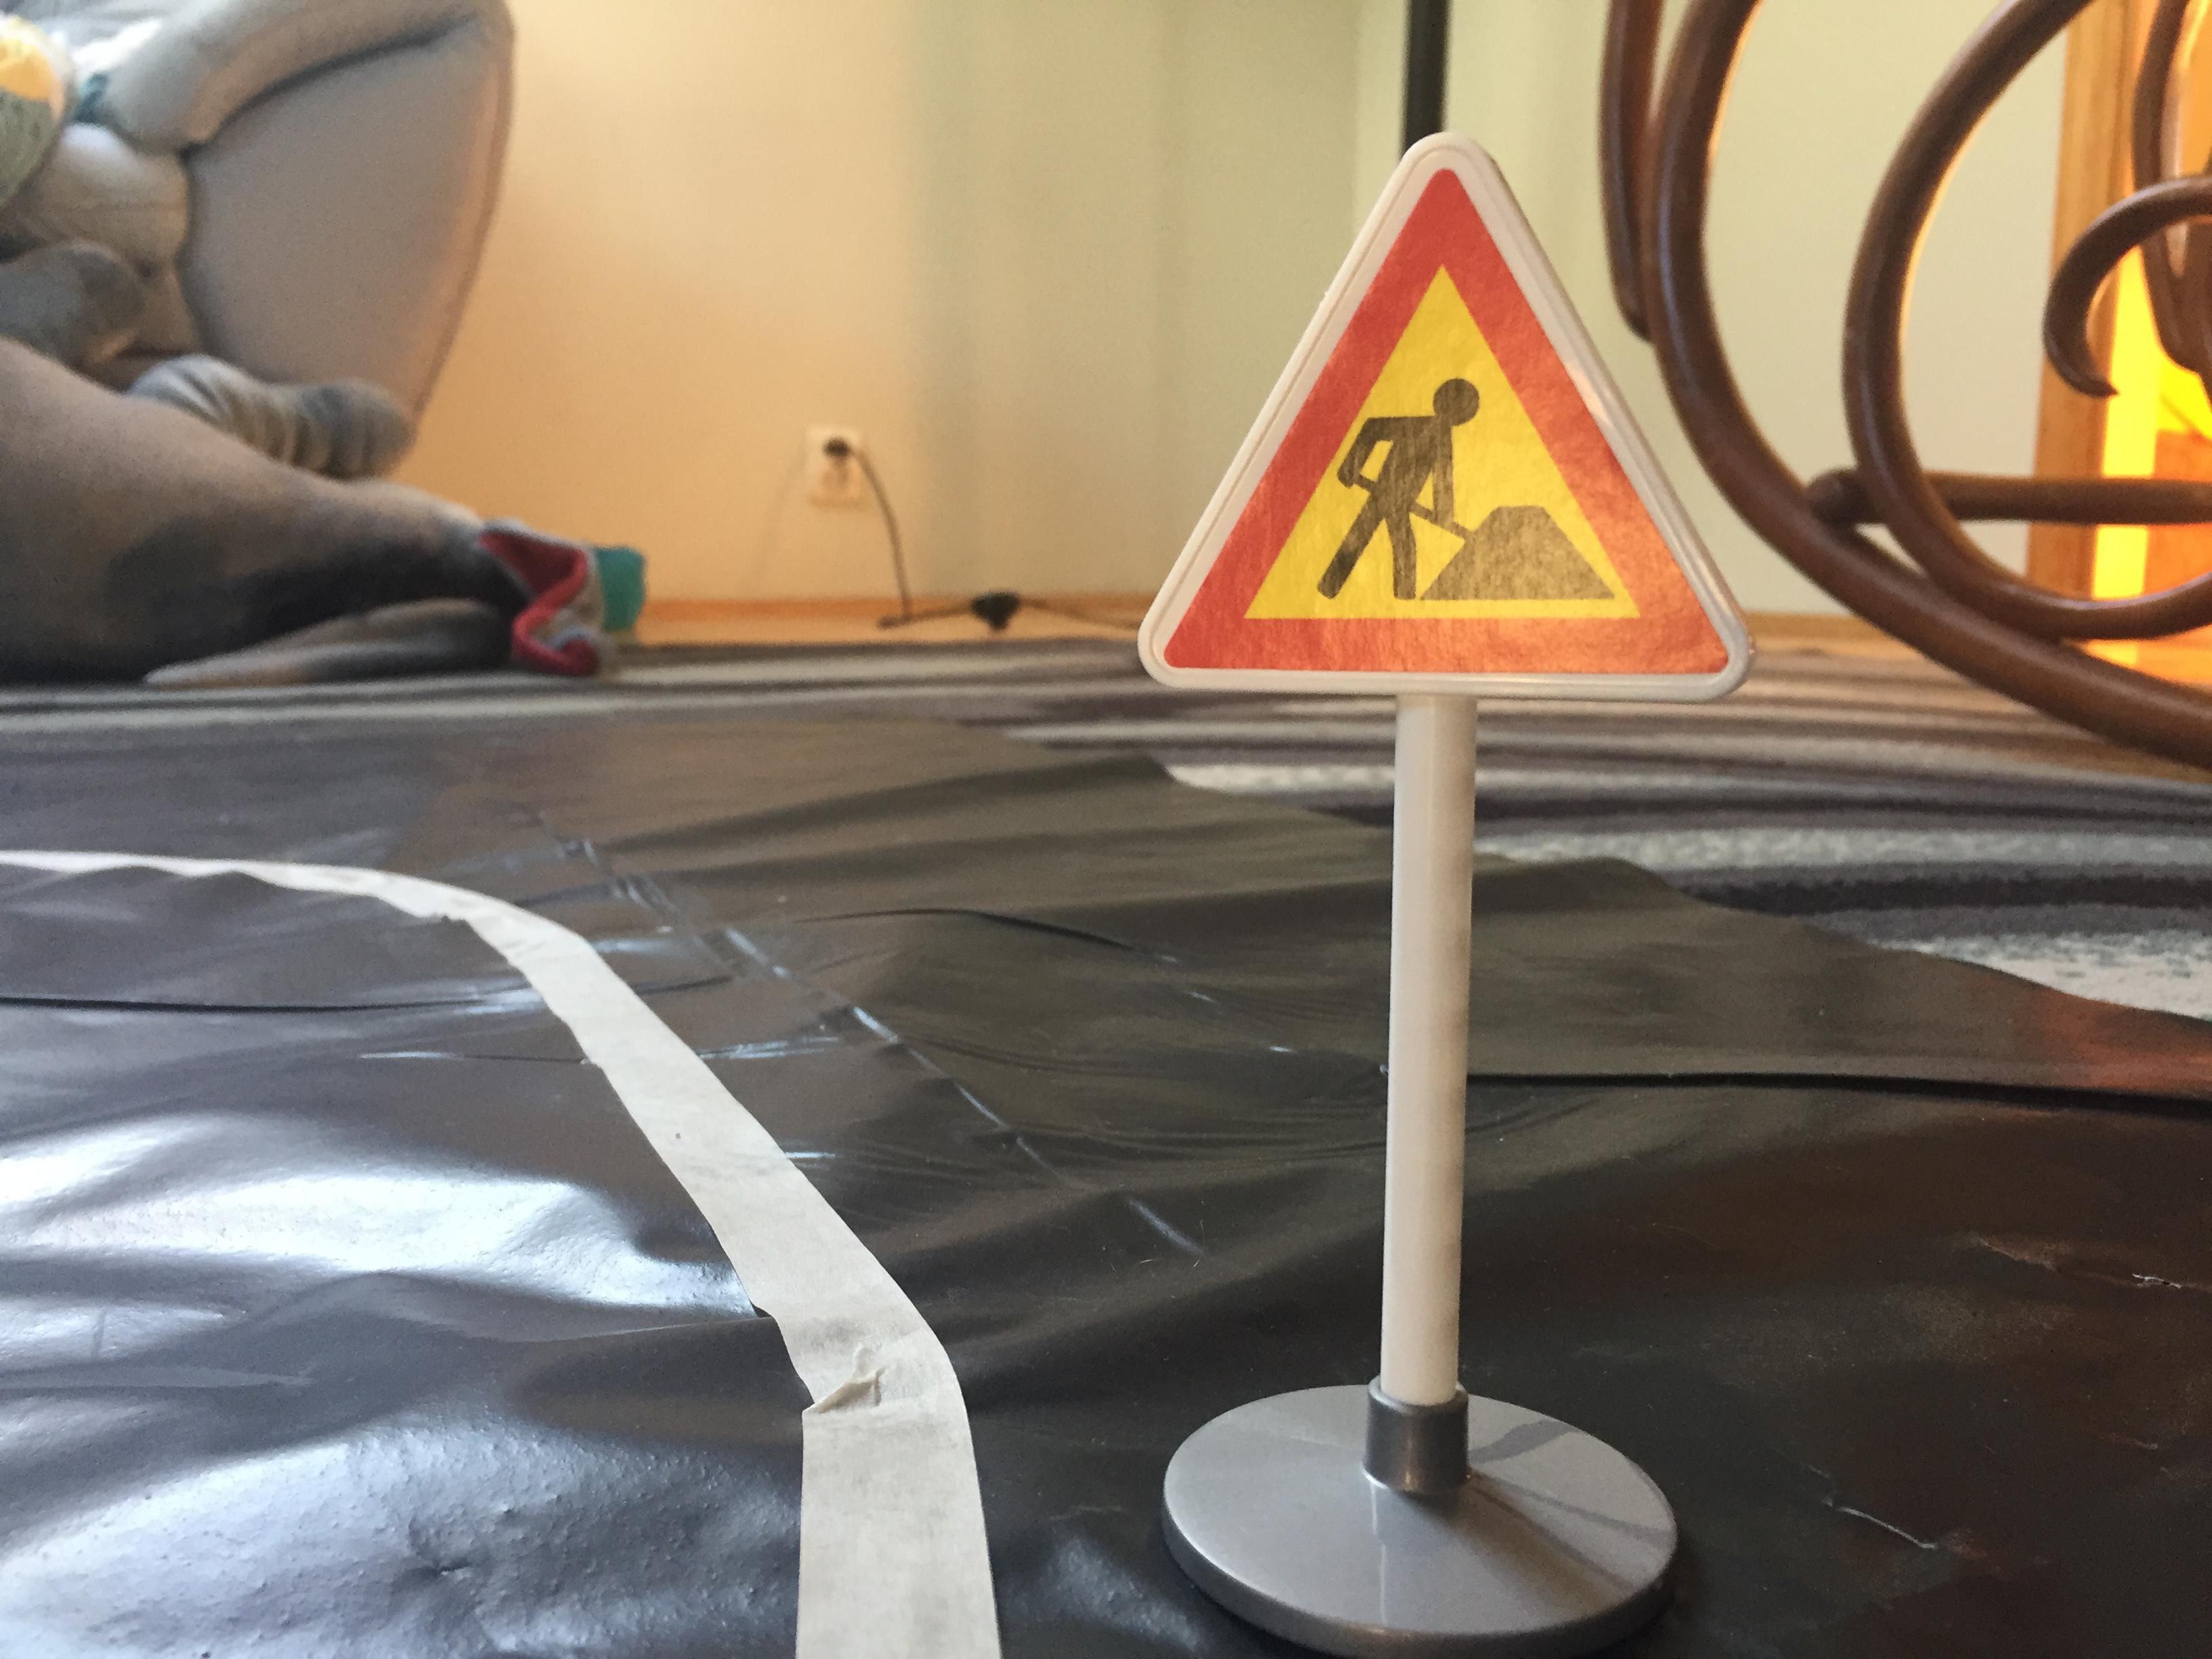work: (1125, 127, 1759, 713)
